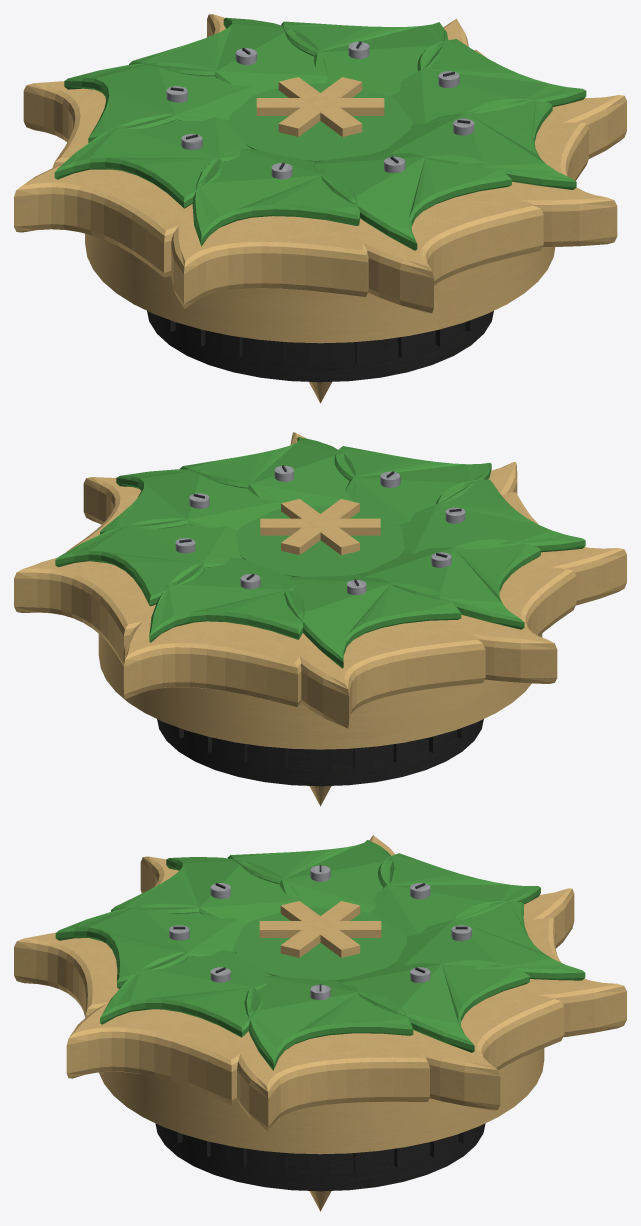
File: crystal.glb
3 renders of one model, top to bottom at view 1: azimuth 30°, elevation 25°; view 2: azimuth 150°, elevation 25°; view 3: azimuth 270°, elevation 25°, orthographic. The views are drawn at different scales.
Visible parts, largest first — view 1: part-27, part-49, part-53, part-45, part-50, part-54, part-46, part-1, part-58, part-42, part-30, part-57 (+11 smaller); view 2: part-27, part-41, part-37, part-45, part-42, part-38, part-33, part-1, part-34, part-46, part-50, part-30 (+12 smaller); view 3: part-27, part-29, part-57, part-33, part-30, part-58, part-34, part-1, part-54, part-38, part-42, part-50 (+12 smaller).
Boxes of the visible parts, x1=… form: part-27: x1=85, y1=233, x2=555, y2=343; part-49: x1=171, y1=207, x2=368, y2=308; part-53: x1=342, y1=191, x2=543, y2=313; part-45: x1=14, y1=164, x2=193, y2=277; part-50: x1=192, y1=149, x2=359, y2=246; part-54: x1=313, y1=152, x2=511, y2=250; part-46: x1=54, y1=114, x2=251, y2=208; part-1: x1=147, y1=311, x2=493, y2=382; part-58: x1=382, y1=99, x2=576, y2=189; part-42: x1=64, y1=62, x2=258, y2=142; part-30: x1=390, y1=39, x2=586, y2=124; part-57: x1=466, y1=122, x2=617, y2=247; part-27: x1=98, y1=634, x2=542, y2=749; part-41: x1=284, y1=620, x2=485, y2=728; part-37: x1=123, y1=614, x2=302, y2=707; part-45: x1=439, y1=566, x2=576, y2=683; part-42: x1=284, y1=574, x2=461, y2=668; part-38: x1=149, y1=557, x2=306, y2=642; part-33: x1=14, y1=558, x2=155, y2=665; part-1: x1=157, y1=719, x2=483, y2=786; part-34: x1=55, y1=518, x2=242, y2=605; part-46: x1=360, y1=539, x2=540, y2=629; part-50: x1=398, y1=479, x2=585, y2=553; part-30: x1=100, y1=469, x2=280, y2=534; part-27: x1=99, y1=1048, x2=544, y2=1154; part-29: x1=236, y1=1031, x2=429, y2=1131; part-57: x1=66, y1=1003, x2=244, y2=1104; part-33: x1=376, y1=993, x2=564, y2=1110; part-30: x1=244, y1=975, x2=413, y2=1070; part-58: x1=100, y1=949, x2=272, y2=1037; part-34: x1=338, y1=960, x2=529, y2=1052; part-1: x1=155, y1=1123, x2=485, y2=1191; part-54: x1=55, y1=903, x2=245, y2=988; part-38: x1=394, y1=901, x2=585, y2=980; part-42: x1=369, y1=853, x2=540, y2=936; part-50: x1=111, y1=857, x2=301, y2=923.
Bounding box in the file's own units: 1.26 × 0.649 × 1.26.
69 materials, 51 textured.
